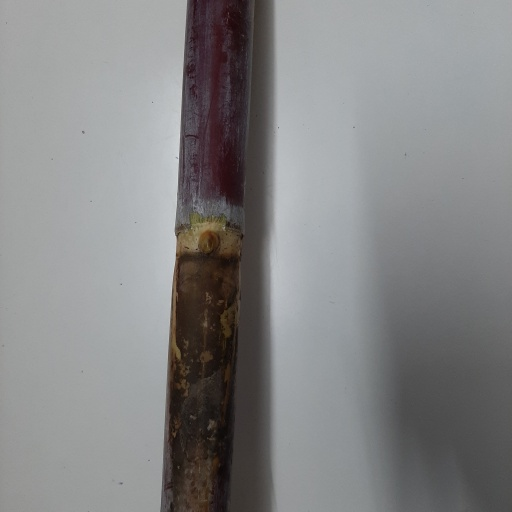Bud: (198, 230, 220, 258)
